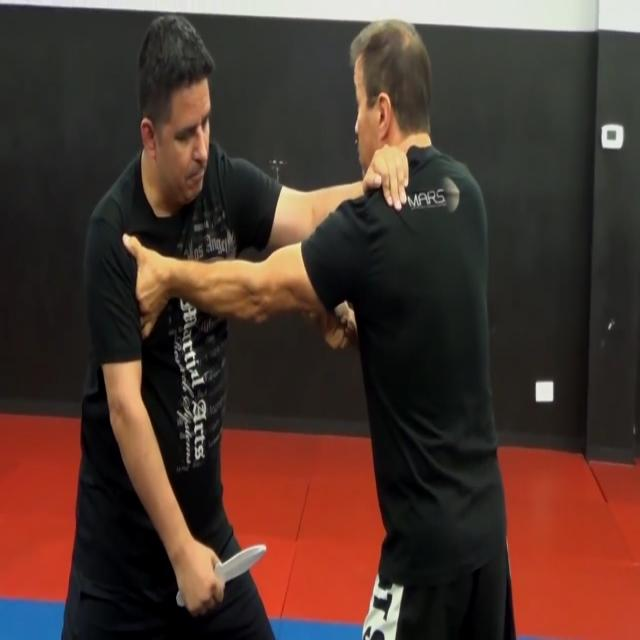knife: (172, 537, 272, 614)
